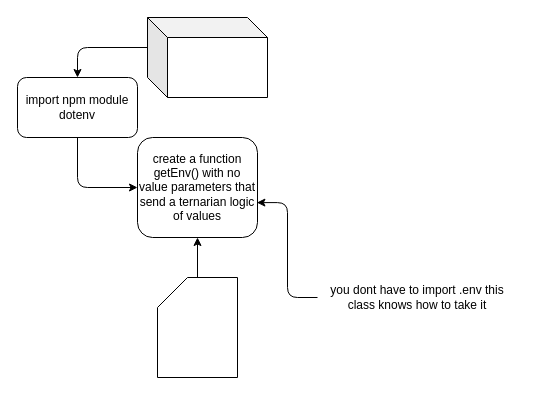
Image size: 535x395. Some labels were removed from this diagram. Here are the shapes that lost their labels. From the top down, the box of each, then its label:
(146, 16, 268, 98): dotenv
(156, 276, 238, 378): .env
